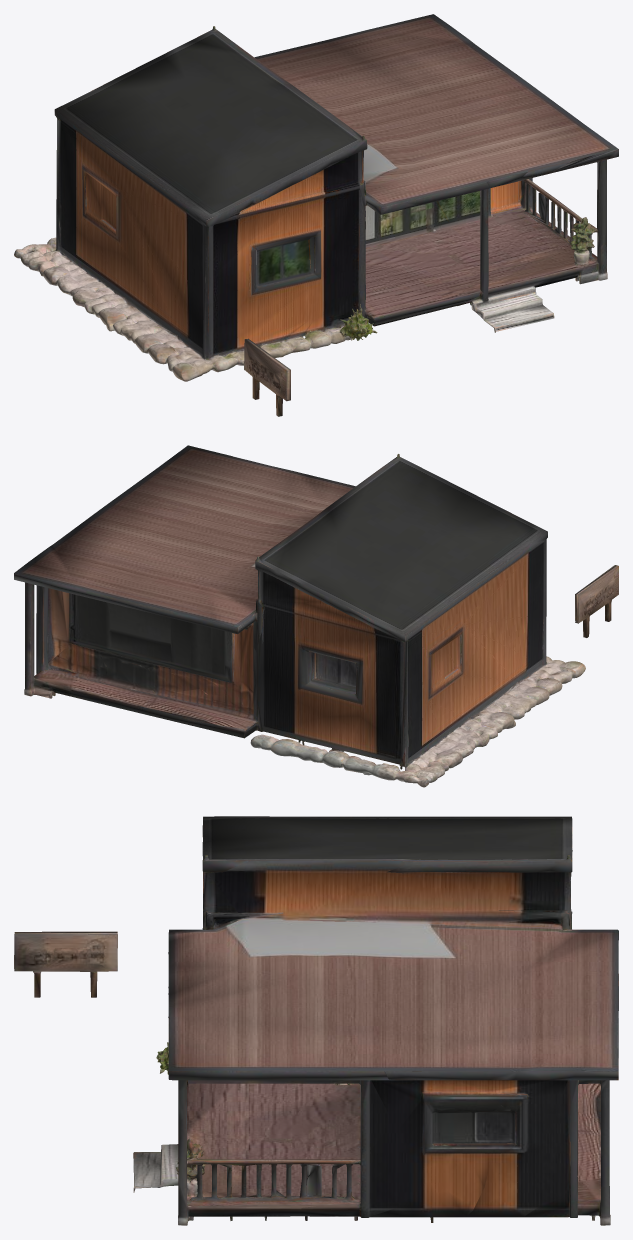
File: stay14.glb
3 renders of one model, top to bottom at view 1: azimuth 30°, elevation 25°; view 2: azimuth 150°, elevation 25°; view 3: azimuth 270°, elevation 25°, orthographic. The views are drawn at different scales.
Parts seen in each view (by area): view 1: Mesh_0; view 2: Mesh_0; view 3: Mesh_0.
Part boxes in pixels (x1,y1,x2,y2): Mesh_0: [14, 14, 618, 416]; Mesh_0: [14, 445, 618, 787]; Mesh_0: [14, 816, 618, 1225].
Size of the model in its own units: 1.9 by 0.842 by 1.9.
Materials: 1 (1 with a texture image).
